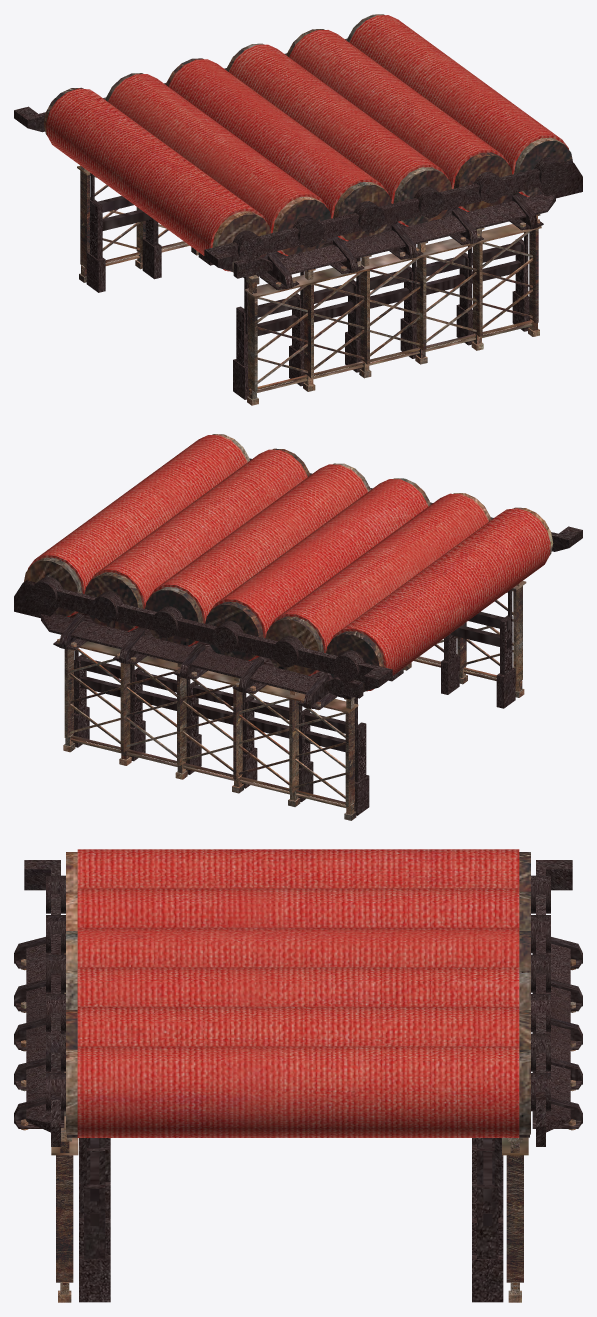
Rendered from ConveyerBelt_FBX.fbx.
3 views of the same model, one above another, from view 1: azimuth 30°, elevation 25°; view 2: azimuth 150°, elevation 25°; view 3: azimuth 270°, elevation 25° (orthographic). The views are drawn at different scales.
Visible parts, largest first — view 1: guide_group_04, pr_fense_01_02, pr_fense_02, roller_main_06, roller_main_05, roller_main_03, roller_main_04, roller_main_01, roller_main_02, pr_fense_01_01, roller_sub_03, roller_sub_05 (+5 smaller); view 2: guide_group_03, pr_fense_02, pr_fense_01_01, roller_main_06, roller_main_05, roller_main_02, roller_main_03, roller_main_04, roller_main_01, pr_fense_01_02, roller_sub_03, roller_sub_04 (+5 smaller); view 3: roller_main_01, roller_main_02, roller_main_04, roller_main_03, roller_main_05, roller_main_06, guide_group_03, guide_group_04, pr_fense_02, pr_fense_01_02, pr_fense_01_01, roller_sub_01 (+5 smaller).
Part boxes in pixels (box(x1,y1,x2,y2)): guide_group_04: box(204, 157, 582, 290); pr_fense_01_02: box(245, 214, 541, 405); pr_fense_02: box(86, 173, 529, 399); roller_main_06: box(46, 88, 266, 271); roller_main_05: box(108, 74, 327, 255); roller_main_03: box(229, 44, 448, 226); roller_main_04: box(168, 59, 388, 241); roller_main_01: box(349, 15, 568, 197); roller_main_02: box(289, 30, 508, 211); pr_fense_01_01: box(77, 165, 198, 282); roller_sub_03: box(226, 43, 451, 225); roller_sub_05: box(105, 73, 331, 255); guide_group_03: box(14, 576, 392, 710); pr_fense_02: box(69, 589, 515, 815); pr_fense_01_01: box(63, 641, 358, 820); roller_main_06: box(330, 508, 550, 691); roller_main_05: box(269, 493, 488, 675); roller_main_02: box(88, 449, 307, 631); roller_main_03: box(148, 464, 367, 646); roller_main_04: box(208, 479, 428, 660); roller_main_01: box(27, 435, 247, 616); pr_fense_01_02: box(403, 581, 526, 697); roller_sub_03: box(145, 463, 370, 645); roller_sub_04: box(205, 478, 430, 660); roller_main_01: box(77, 1046, 519, 1137); roller_main_02: box(77, 1006, 519, 1046); roller_main_04: box(77, 927, 519, 967); roller_main_03: box(77, 967, 519, 1006); roller_main_05: box(77, 888, 519, 927); roller_main_06: box(77, 849, 519, 888); guide_group_03: box(531, 860, 582, 1146); guide_group_04: box(14, 860, 65, 1146); pr_fense_02: box(67, 1134, 529, 1302); pr_fense_01_02: box(51, 953, 78, 1302); pr_fense_01_01: box(502, 1137, 528, 1302); roller_sub_01: box(66, 1049, 530, 1134).
Bounding box in the file's own units: 137 × 67.35 × 135.
3 materials, 3 textured.
